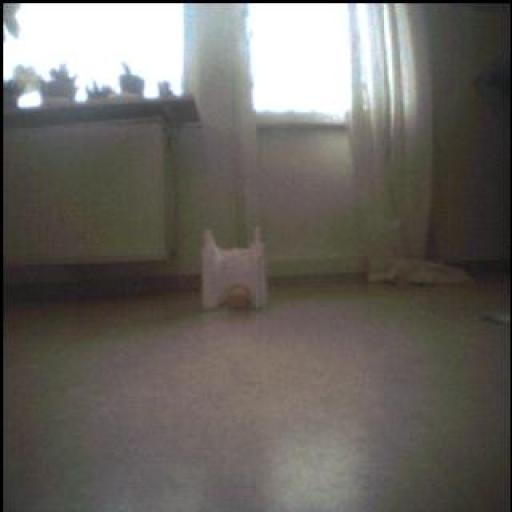Basket: (222, 286, 254, 316)
